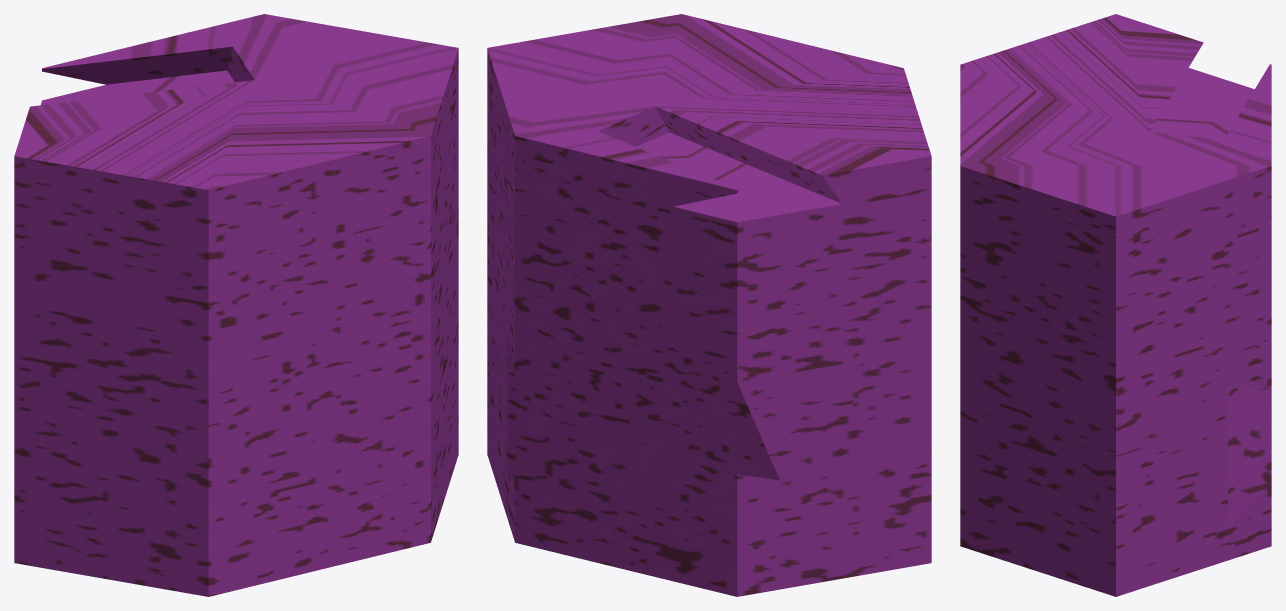
3 renders of one model, left to right at view 1: azimuth 30°, elevation 25°; view 2: azimuth 150°, elevation 25°; view 3: azimuth 270°, elevation 25°, orthographic. The views are drawn at different scales.
Visible parts, largest first — view 1: geometry_0; view 2: geometry_0; view 3: geometry_0.
Boxes of the visible parts, bbox=[...] form: geometry_0: bbox=[14, 14, 458, 596]; geometry_0: bbox=[487, 14, 931, 596]; geometry_0: bbox=[960, 14, 1271, 596].
Bounding box in the file's own units: 1.77 × 1.55 × 1.15.
Materials: 1 (1 with a texture image).
